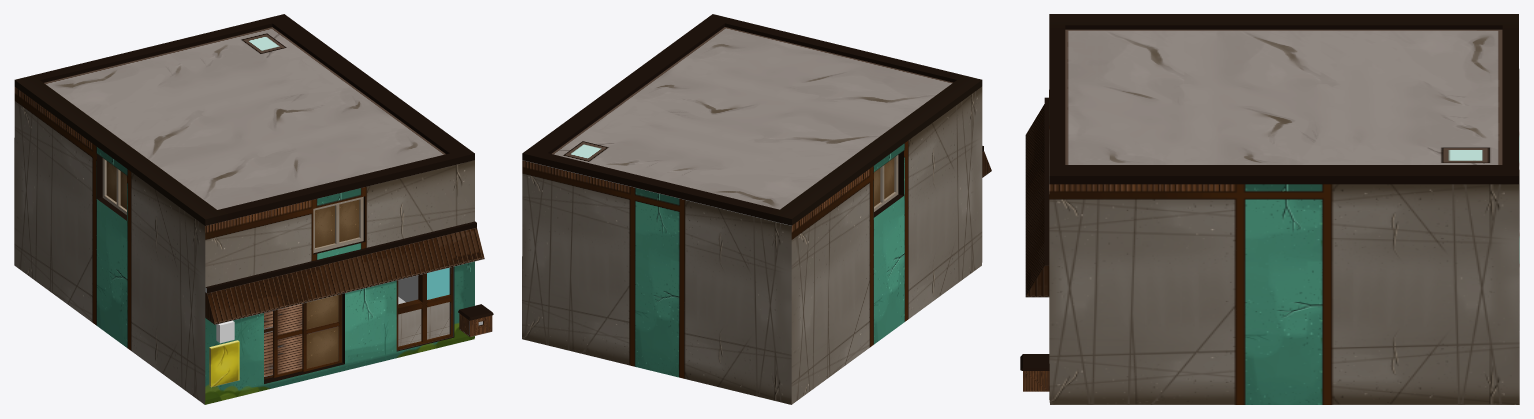
The model's file is House_4_Green.fbx.
The picture shows the model from 3 angles, left to right: view 1: azimuth 30°, elevation 25°; view 2: azimuth 150°, elevation 25°; view 3: azimuth 270°, elevation 25°; orthographic projection. The views are drawn at different scales.
Visible parts, largest first — view 1: Cube.052, Cube.045, Cube.048, Cube.043, Cube.046, Cube.051, Cube.044, Cube.049, Cube.061; view 2: Cube.052, Cube.044; view 3: Cube.052, Cube.049.
Boxes of the visible parts, x1,y1,x2,y2 form: Cube.052: (14, 14, 484, 404); Cube.045: (396, 267, 453, 350); Cube.048: (302, 294, 342, 371); Cube.043: (313, 196, 363, 253); Cube.046: (273, 303, 302, 377); Cube.051: (209, 340, 239, 387); Cube.044: (102, 158, 126, 214); Cube.049: (458, 304, 493, 336); Cube.061: (264, 311, 272, 379); Cube.052: (522, 14, 991, 404); Cube.044: (874, 155, 898, 211); Cube.052: (1025, 14, 1519, 404); Cube.049: (1020, 354, 1049, 391).
Size of the model in its own units: 893 by 571 by 1129.
